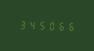five: (36, 19, 44, 30)
four: (26, 19, 34, 30)
six: (54, 20, 62, 31), (63, 20, 71, 31)
three: (17, 18, 25, 30)
zero: (45, 19, 53, 31)
